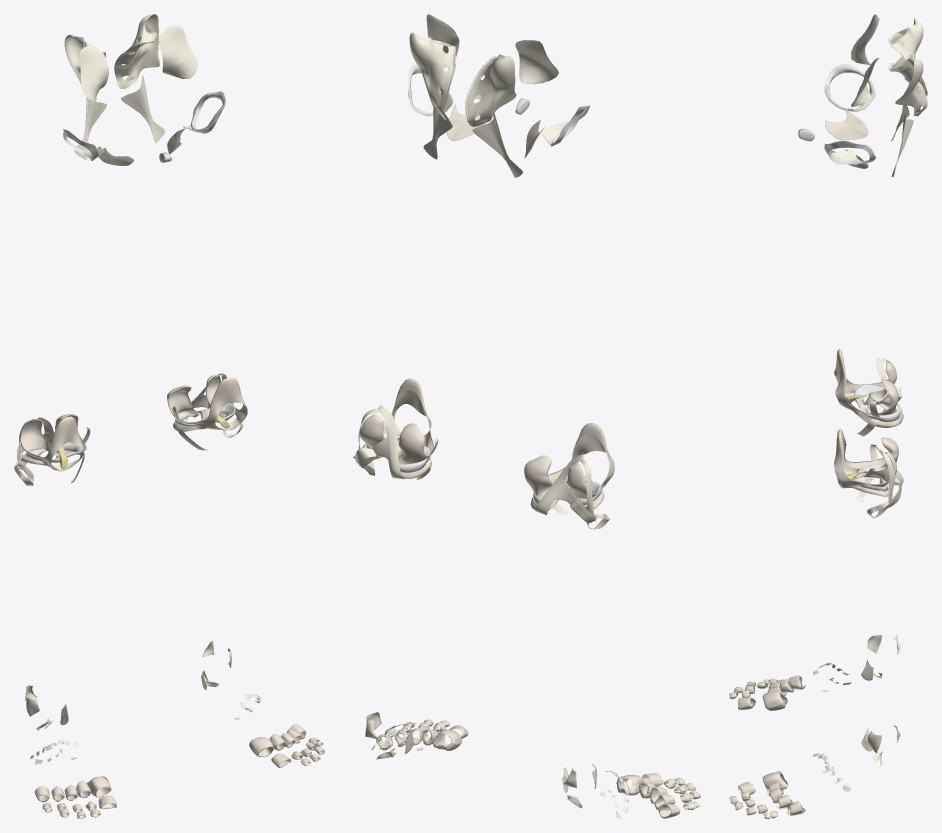
File: zanatomy-joints-lower.glb
3 renders of one model, left to right at view 1: azimuth 30°, elevation 25°; view 2: azimuth 150°, elevation 25°; view 3: azimuth 270°, elevation 25°, orthographic. The views are drawn at different scales.
Parts seen in each view (by area): view 1: zj_knee_joint_capsule_l_1, zj_knee_joint_capsule_r_1, zj_posterior_sacro_iliac_ligament_l_1, zj_anterior_sacro_iliac_ligament_l_1, zj_anterior_sacro_iliac_ligament_r_1, zj_metatarsophalangeal_joint_capsules_r_1, zj_sacrotuberous_ligament_l_1, zj_metatarsophalangeal_joint_capsules_l_1, zj_posterior_sacro_iliac_ligament_r_1, zj_sacrotuberous_ligament_r_1; view 2: zj_knee_joint_capsule_l_1, zj_knee_joint_capsule_r_1, zj_posterior_sacro_iliac_ligament_r_1, zj_posterior_sacro_iliac_ligament_l_1, zj_anterior_sacro_iliac_ligament_r_1, zj_metatarsophalangeal_joint_capsules_r_1, zj_sacrotuberous_ligament_r_1, zj_metatarsophalangeal_joint_capsules_l_1, zj_oblique_popliteal_ligament_l_1, zj_anterior_sacro_iliac_ligament_l_1, zj_oblique_popliteal_ligament_r_1, zj_arcuate_popliteal_ligament_r_1; view 3: zj_knee_joint_capsule_r_1, zj_knee_joint_capsule_l_1, zj_posterior_sacro_iliac_ligament_l_1, zj_posterior_sacro_iliac_ligament_r_1, zj_obturator_membrane_r_1, zj_metatarsophalangeal_joint_capsules_l_1, zj_acetabular_labrum_r_1, zj_metatarsophalangeal_joint_capsules_r_1, zj_acetabular_labrum_l_1, zj_anterior_sacro_iliac_ligament_r_1, zj_anterior_sacro_iliac_ligament_l_1.
Boxes of the visible parts, x1,y1,x2,y2 form: zj_knee_joint_capsule_l_1: (167, 374, 247, 431); zj_knee_joint_capsule_r_1: (20, 414, 86, 471); zj_posterior_sacro_iliac_ligament_l_1: (114, 14, 159, 88); zj_anterior_sacro_iliac_ligament_l_1: (159, 25, 197, 78); zj_anterior_sacro_iliac_ligament_r_1: (80, 46, 108, 101); zj_metatarsophalangeal_joint_capsules_r_1: (35, 776, 110, 801); zj_sacrotuberous_ligament_l_1: (120, 74, 165, 143); zj_metatarsophalangeal_joint_capsules_l_1: (251, 724, 305, 756); zj_posterior_sacro_iliac_ligament_r_1: (64, 34, 105, 94); zj_sacrotuberous_ligament_r_1: (74, 97, 106, 160); zj_knee_joint_capsule_l_1: (359, 378, 434, 478); zj_knee_joint_capsule_r_1: (524, 423, 614, 509); zj_posterior_sacro_iliac_ligament_r_1: (465, 54, 516, 126); zj_posterior_sacro_iliac_ligament_l_1: (409, 32, 455, 119); zj_anterior_sacro_iliac_ligament_r_1: (515, 40, 558, 84); zj_metatarsophalangeal_joint_capsules_r_1: (617, 774, 679, 817); zj_sacrotuberous_ligament_r_1: (472, 113, 522, 177); zj_metatarsophalangeal_joint_capsules_l_1: (376, 728, 460, 750); zj_oblique_popliteal_ligament_l_1: (378, 405, 404, 479); zj_anterior_sacro_iliac_ligament_l_1: (426, 14, 459, 58); zj_oblique_popliteal_ligament_r_1: (535, 454, 584, 515); zj_arcuate_popliteal_ligament_r_1: (553, 459, 594, 523); zj_knee_joint_capsule_r_1: (834, 349, 901, 427); zj_knee_joint_capsule_l_1: (834, 429, 900, 496); zj_posterior_sacro_iliac_ligament_l_1: (888, 58, 927, 116); zj_posterior_sacro_iliac_ligament_r_1: (888, 18, 927, 96); zj_obturator_membrane_r_1: (825, 109, 868, 139); zj_metatarsophalangeal_joint_capsules_l_1: (762, 772, 803, 815); zj_acetabular_labrum_r_1: (824, 64, 875, 110); zj_metatarsophalangeal_joint_capsules_r_1: (762, 675, 802, 710); zj_acetabular_labrum_l_1: (824, 140, 875, 164); zj_anterior_sacro_iliac_ligament_r_1: (851, 14, 879, 64); zj_anterior_sacro_iliac_ligament_l_1: (851, 58, 879, 106).
Size of the model in its own units: 0.3872 by 0.9357 by 0.2357.
